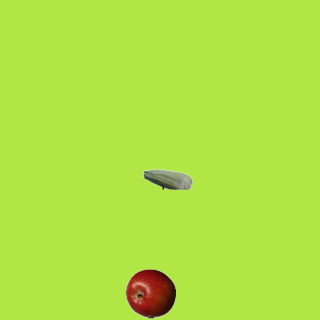Apple Braeburn: (125, 268, 175, 318)
Corn Husk: (142, 154, 192, 204)
